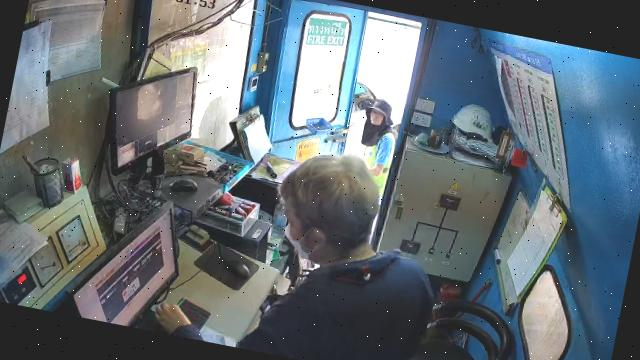Head: (281, 155, 379, 263)
People: (246, 159, 433, 359)
